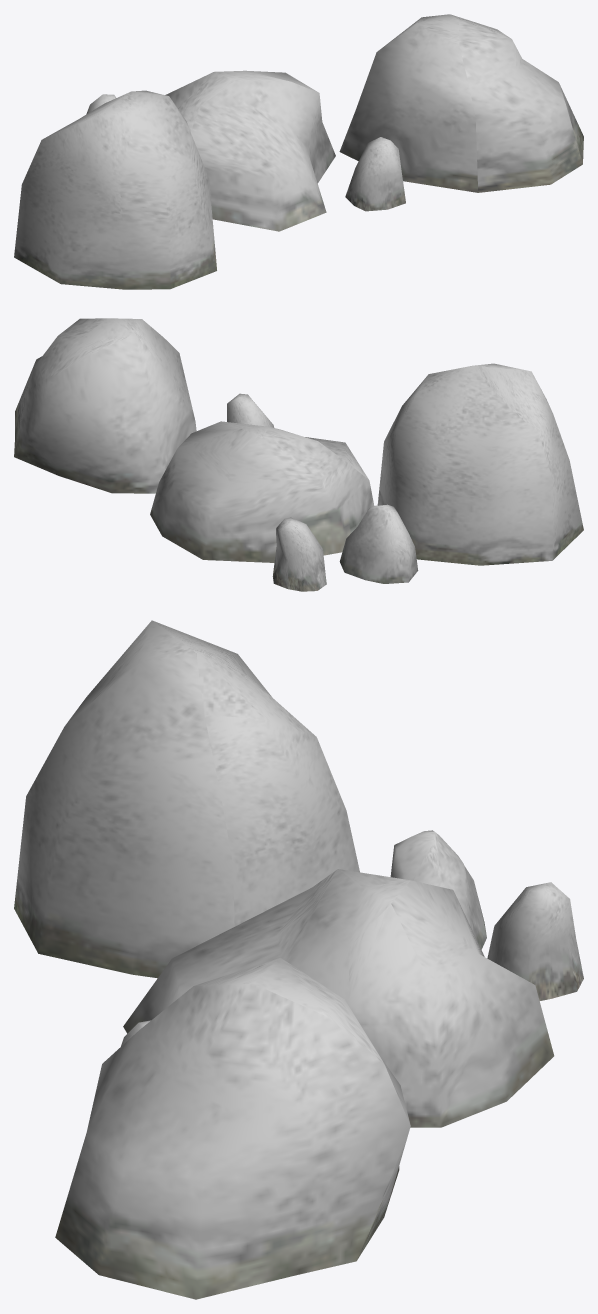
Rendered from shrine_rock_05.fbx.
3 views of the same model, one above another, from view 1: azimuth 30°, elevation 25°; view 2: azimuth 150°, elevation 25°; view 3: azimuth 270°, elevation 25° (orthographic). The views are drawn at different scales.
Parts seen in each view (by area): view 1: Shrine_rock_05; view 2: Shrine_rock_05; view 3: Shrine_rock_05.
Part boxes in pixels (box(x1,y1,x2,y2)): Shrine_rock_05: box(14, 14, 583, 289); Shrine_rock_05: box(14, 318, 583, 591); Shrine_rock_05: box(14, 620, 583, 1299).
Size of the model in its own units: 6.95 by 1.87 by 3.62.
